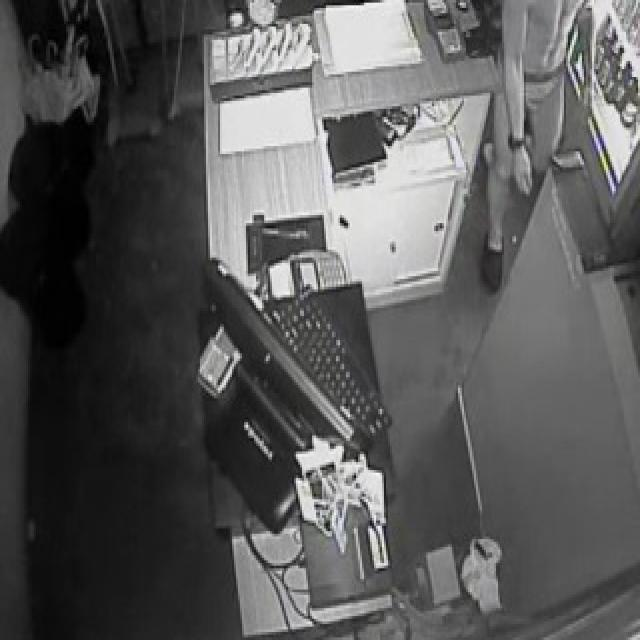thief: (498, 0, 591, 172)
